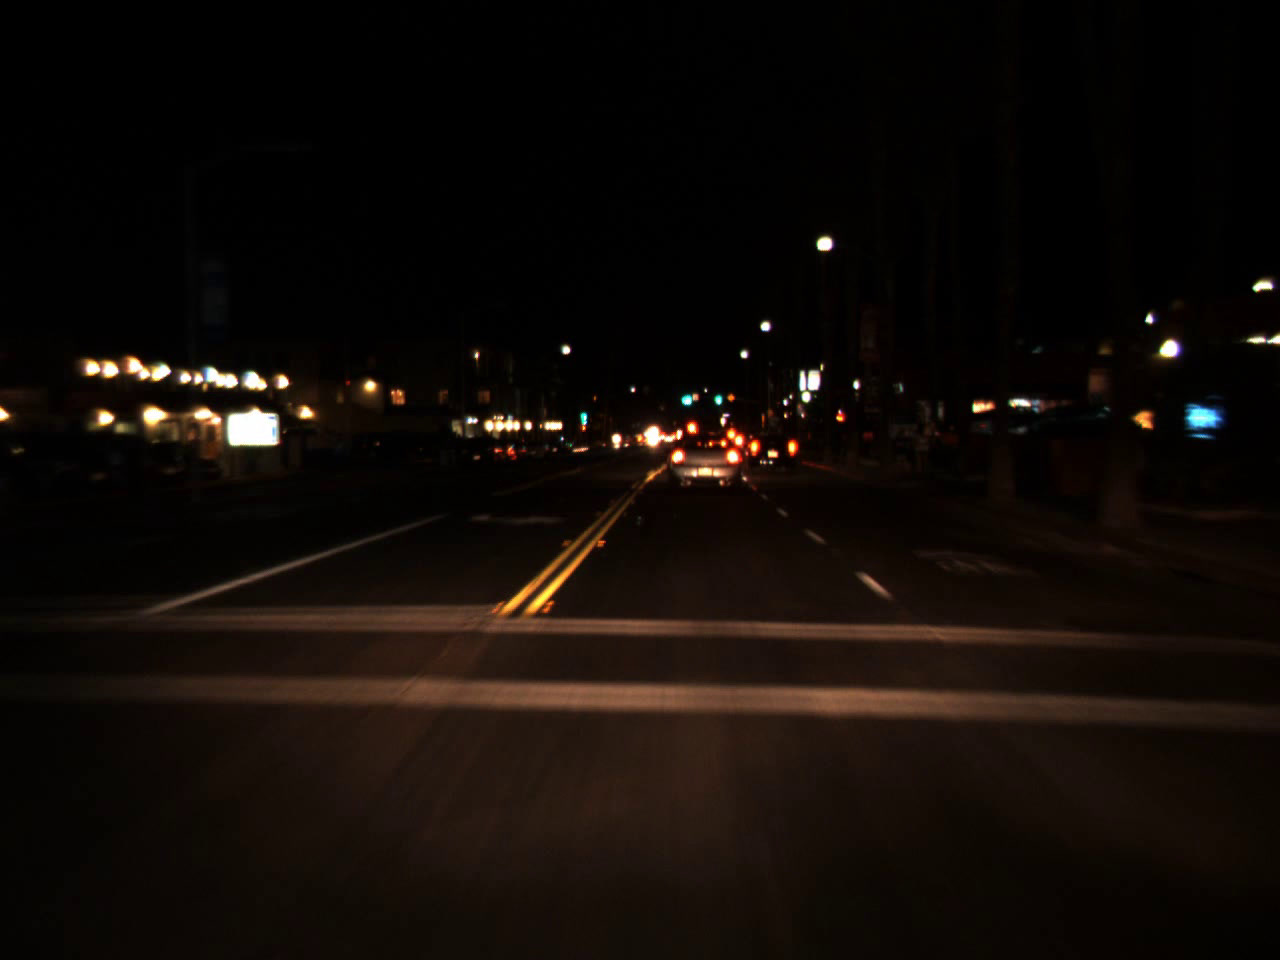go: (677, 385, 695, 406), (578, 399, 588, 429), (713, 387, 723, 405)
